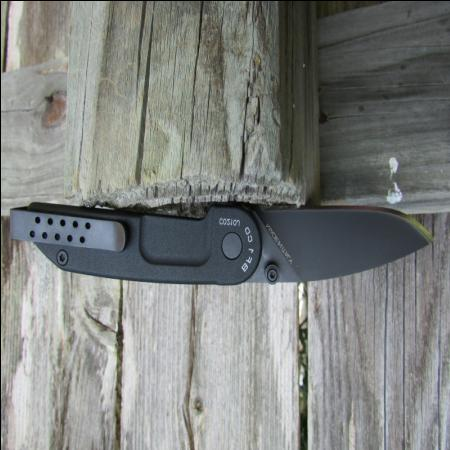long weapon: (225, 198, 442, 289)
